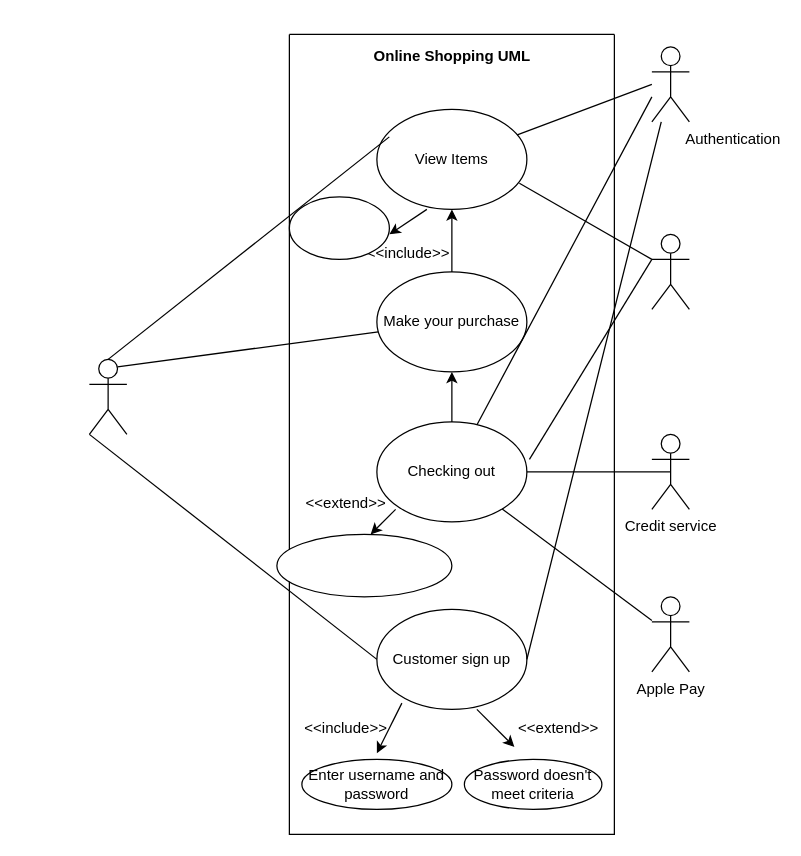
Some shapes in this 801 by 856 pixel diagram are drawn without their labels. The box of each missing label's shape, as (x1, y1, x2, y2) in pixels:
Basic consumer/customer: (88, 358, 127, 434)
Enter search criteria: (288, 196, 389, 259)
ID provider: (651, 233, 689, 309)
What payment method would you like to use?: (276, 533, 452, 597)
